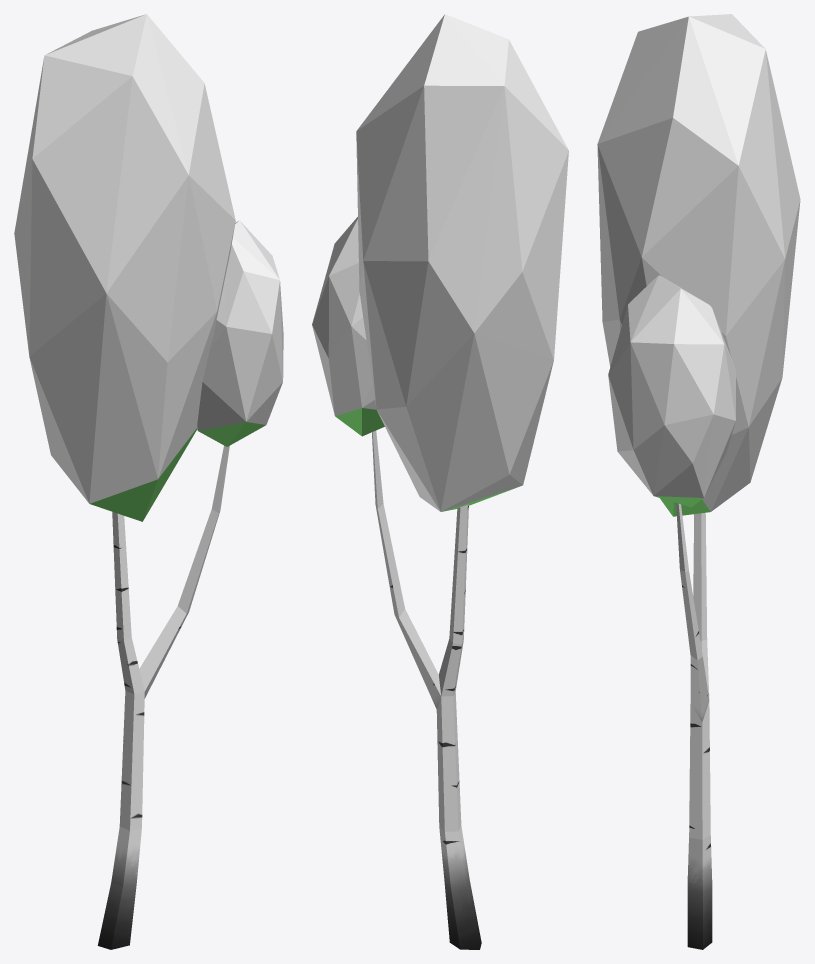
Rendered from Birch_Tree_l_Snow_BT_01.fbx.
3 views of the same model, side by side, from view 1: azimuth 30°, elevation 25°; view 2: azimuth 150°, elevation 25°; view 3: azimuth 270°, elevation 25° (orthographic). The views are drawn at different scales.
Parts seen in each view (by area): view 1: Birch_Tree_l_Snow_BT_01; view 2: Birch_Tree_l_Snow_BT_01; view 3: Birch_Tree_l_Snow_BT_01.
Part boxes in pixels (x1=…): Birch_Tree_l_Snow_BT_01: x1=14, y1=14, x2=283, y2=949; Birch_Tree_l_Snow_BT_01: x1=312, y1=14, x2=568, y2=949; Birch_Tree_l_Snow_BT_01: x1=597, y1=14, x2=800, y2=949.
Size of the model in its own units: 452 by 1637 by 321.
